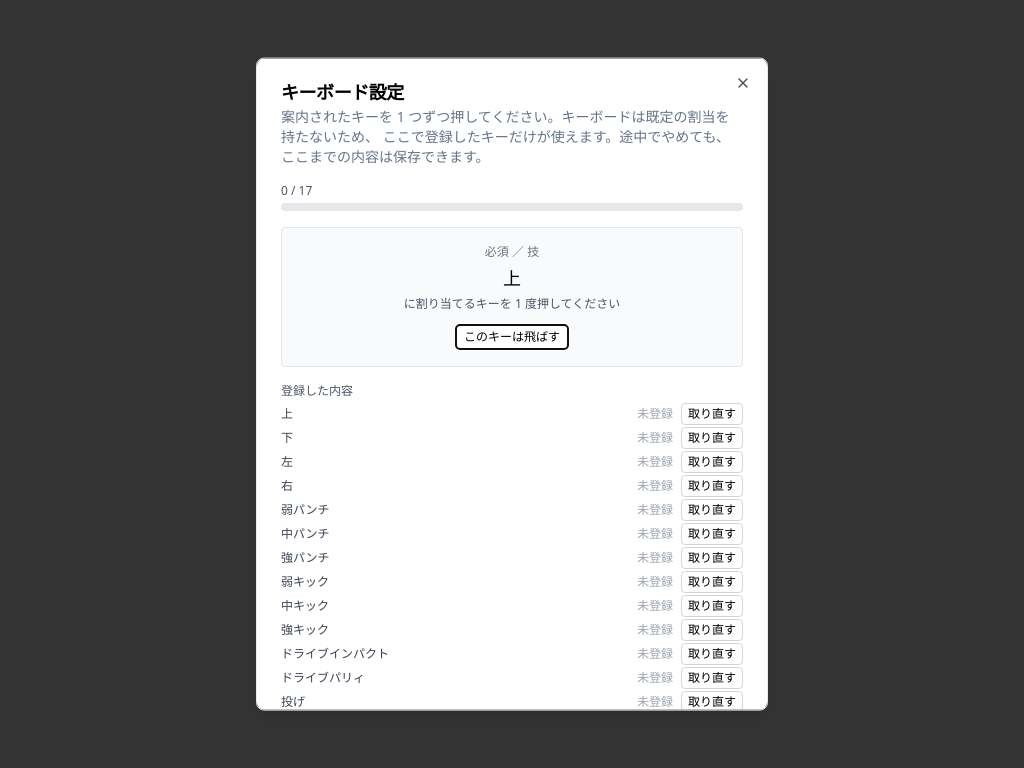
Test: 登録の進行 › 飛ばせる（全部埋めないと使えない形にしない）
Click the button with test id "recipe-keyboard-skip" at (512, 337), box [455,324,569,350]
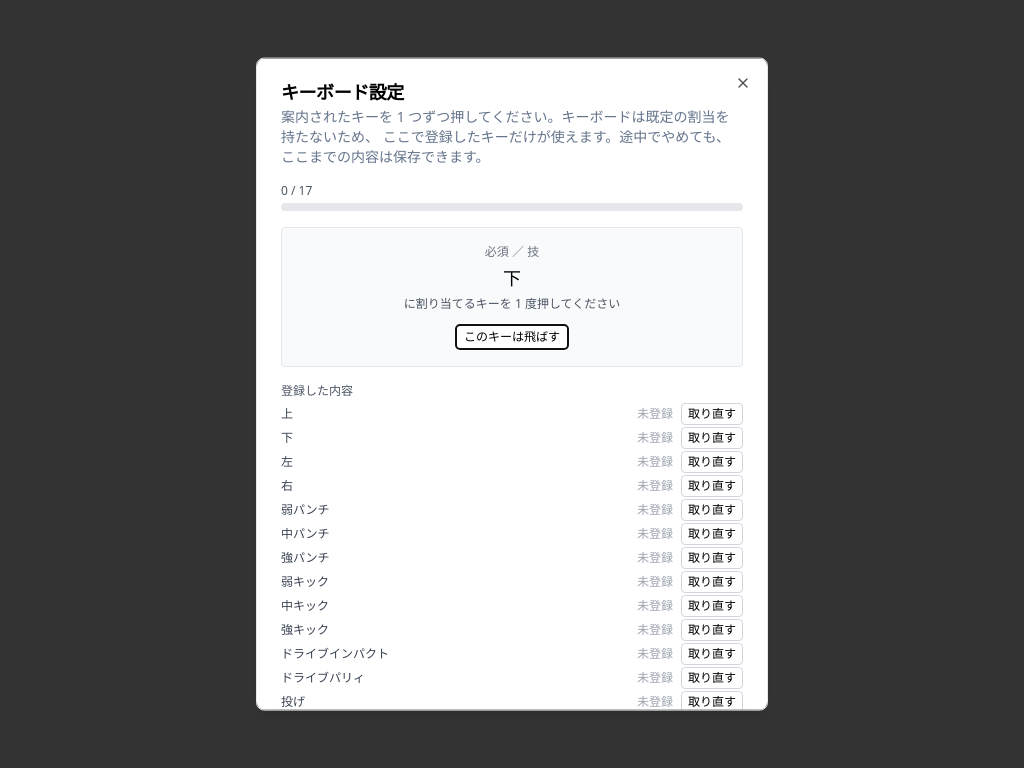
Result: the element with test id "recipe-keyboard-step-down" is shown at [281,227,743,367]
